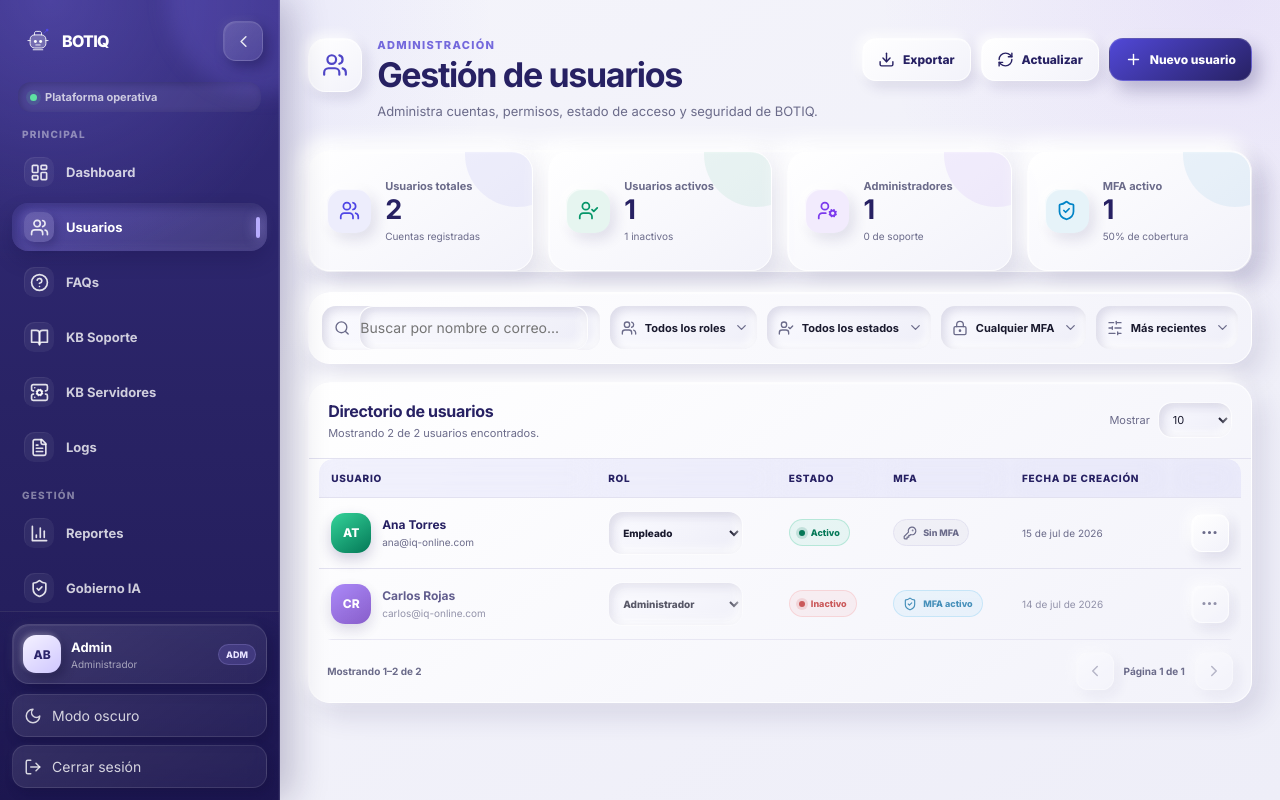
Test case: UsersPage profesional › filtra usuarios por búsqueda
Step 1. Type "carlos" into the field with placeholder "Buscar por nombre o correo..." → (474, 328), box [359,306,588,350]
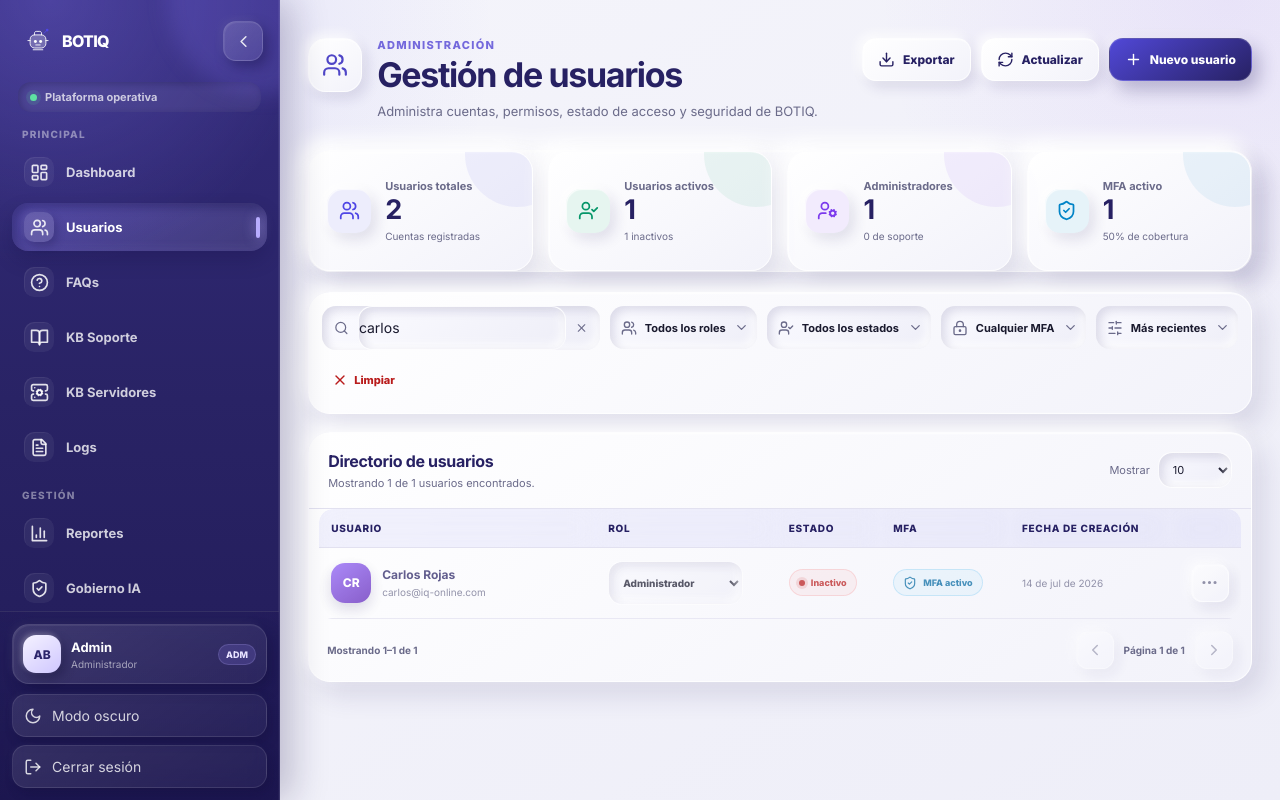
Now the text "Ana Torres" is not shown
